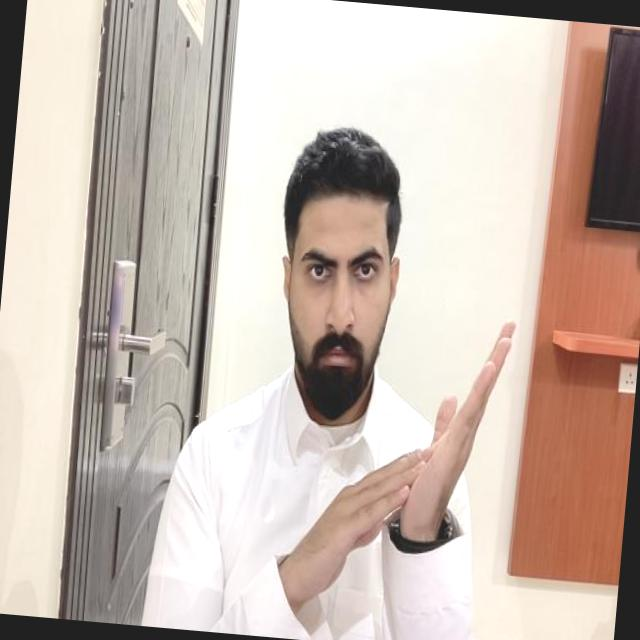complaint: (280, 299, 518, 622)
